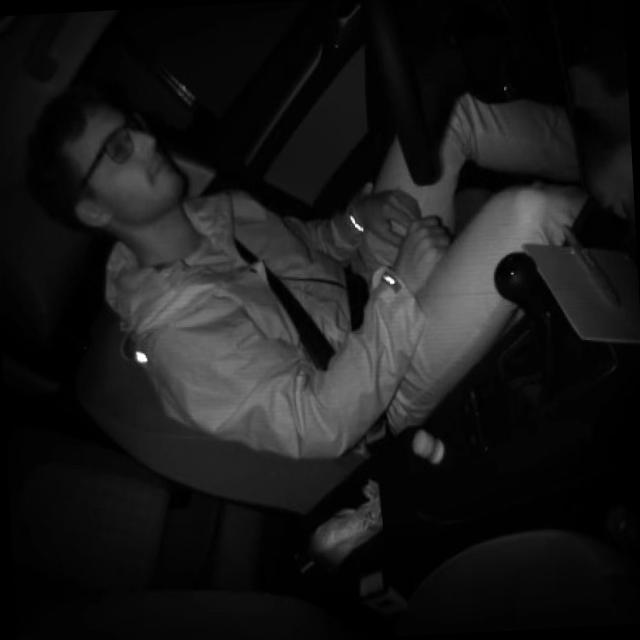pen: (560, 219, 624, 315)
